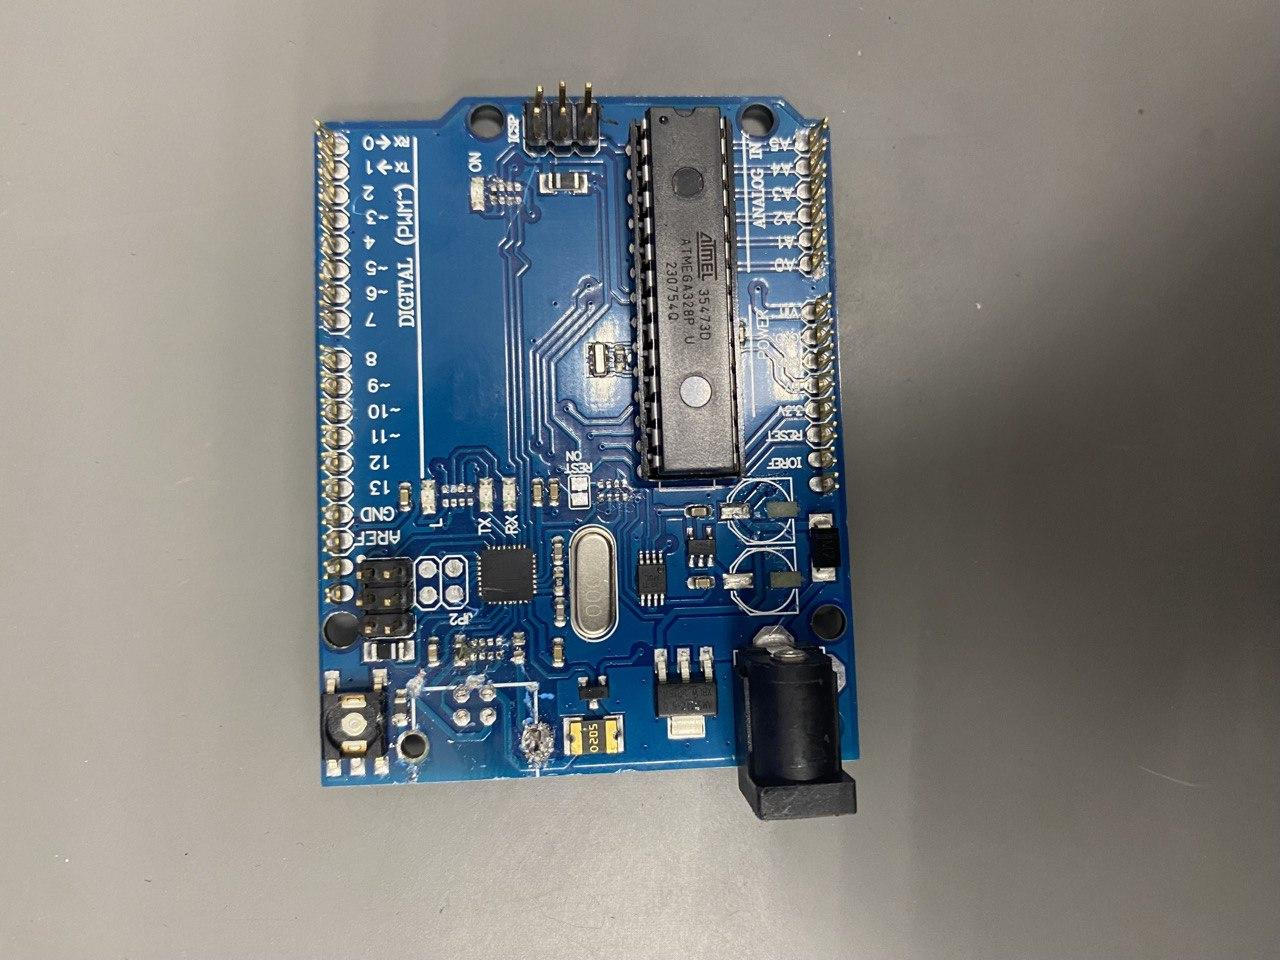ATmega328 chip: (629, 106, 748, 479)
Arduino board: (312, 79, 859, 821)
